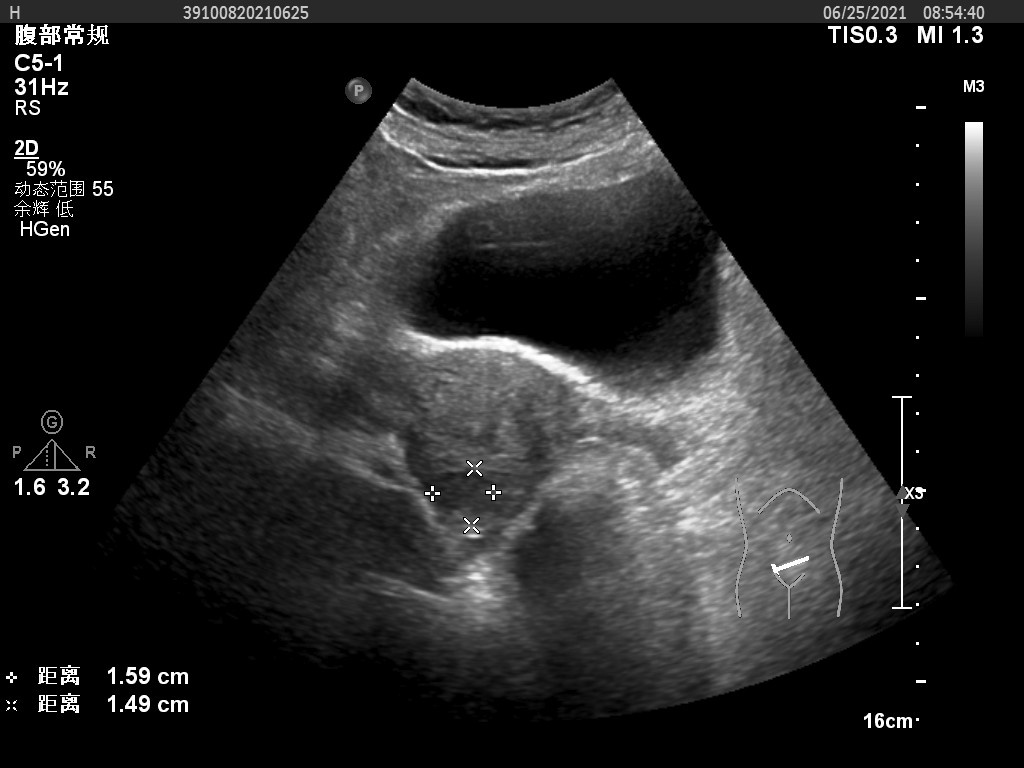肌瘤: (433, 478, 493, 521)
